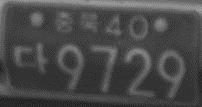0: (128, 14, 149, 40)
2: (124, 47, 156, 97)
4: (104, 13, 125, 36)
7: (90, 43, 119, 93)
9: (158, 48, 187, 98), (56, 44, 86, 91)
다: (13, 43, 49, 73)
충북_O: (55, 9, 98, 34)
